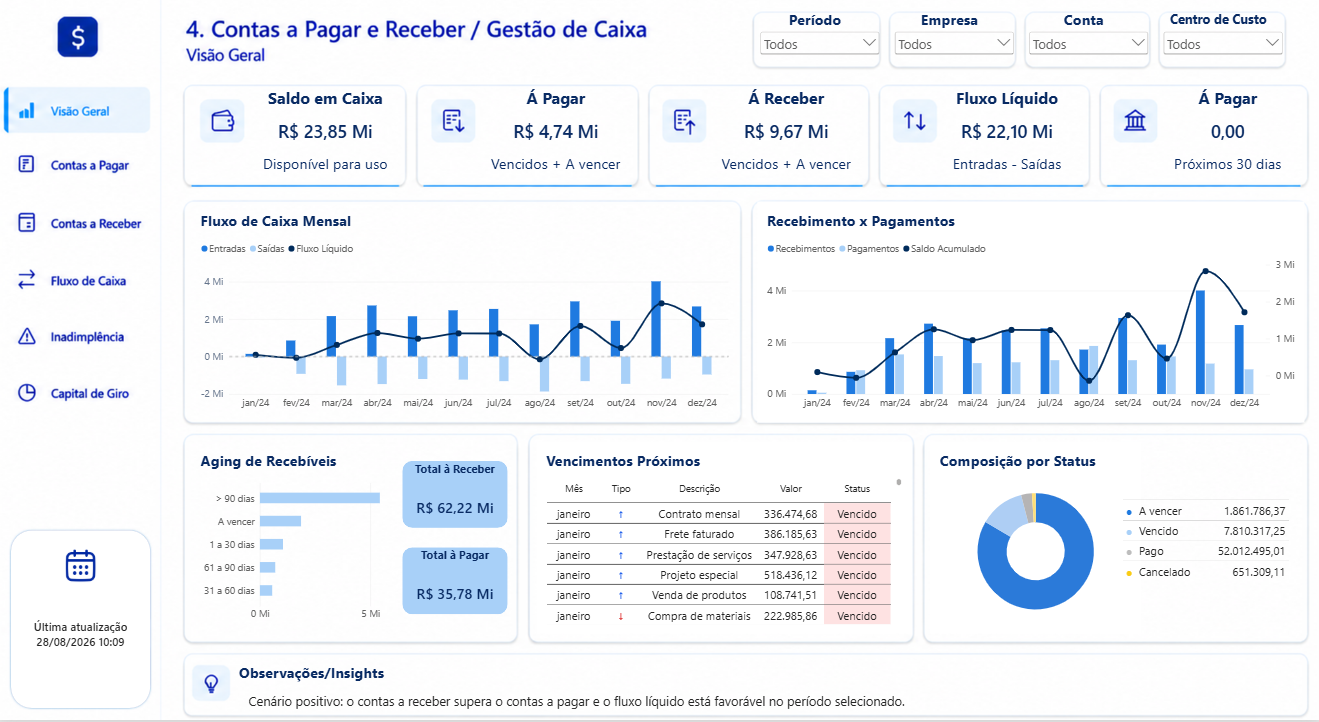

The dashboard page shown, as its layout file describes it:
{"tool":"powerbi","page":{"name":"Visão Geral","canvas":[2200,1200],"ordinal":0},"visuals":[{"type":"shape","box":[16,880,240,304],"z":0},{"type":"cardVisual","title":"Saldo em Caixa","fields":{"Data":["Medidas Visão Geral.Saldo em Caixa"]},"box":[416,144,256,96],"z":1000},{"type":"cardVisual","title":"Á Pagar","fields":{"Data":["Medidas Visão Geral.A Pagar"]},"box":[800,144,256,96],"z":2000},{"type":"cardVisual","title":"Saldo em Caixa","fields":{"Data":["Medidas Visão Geral.Texto Saldo em Caixa"]},"box":[416,240,256,64],"z":3000},{"type":"cardVisual","title":"Saldo em Caixa","fields":{"Data":["Medidas Visão Geral.Texto A Pagar"]},"box":[800,240,256,64],"z":4000},{"type":"cardVisual","title":"Á Receber","fields":{"Data":["Medidas Visão Geral.A Receber"]},"box":[1184,144,256,96],"z":5000},{"type":"cardVisual","title":"Saldo em Caixa","fields":{"Data":["Medidas Visão Geral.Texto A Receber"]},"box":[1184,240,256,64],"z":6000},{"type":"cardVisual","title":"Saldo em Caixa","fields":{"Data":["Medidas Visão Geral.Texto Fluxo Líquido"]},"box":[1552,240,256,64],"z":7000},{"type":"cardVisual","title":"Saldo em Caixa","fields":{"Data":["Medidas Visão Geral.Texto Necessidade de Caixa"]},"box":[1920,240,256,64],"z":8000},{"type":"cardVisual","title":"Fluxo Líquido","fields":{"Data":["Medidas Visão Geral.Fluxo Líquido"]},"box":[1552,144,256,96],"z":9000},{"type":"cardVisual","title":"Á Pagar","fields":{"Data":["Medidas Visão Geral.Necessidade de Caixa 30 Dias"]},"box":[1920,144,256,96],"z":10000},{"type":"slicer","title":"Período","fields":{"Values":["dCalendario.Ano_Mes"]},"box":[1264,48,208,64],"z":11000},{"type":"textbox","box":[1296,16,128,48],"z":12000},{"type":"slicer","fields":{"Values":["dEmpresas.Empresa"]},"box":[1488,48,208,48],"z":13000},{"type":"textbox","box":[1520,16,128,48],"z":14000},{"type":"slicer","fields":{"Values":["dContasBancarias.Conta"]},"box":[1712,48,208,48],"z":15000},{"type":"textbox","box":[1744,16,128,48],"z":16000},{"type":"slicer","fields":{"Values":["dCentrosCusto.Centro_Custo"]},"box":[1936,48,208,48],"z":17000},{"type":"textbox","box":[1936,16,192,48],"z":18000},{"type":"lineClusteredColumnComboChart","title":"Fluxo de Caixa Mensal","fields":{"Y":["Medidas Visão Geral.Entradas de Caixa","Medidas Visão Geral.Saídas de Caixa Gráfico"],"Y2":["Medidas Visão Geral.Fluxo Líquido"],"Category":["dCalendario.Mes_Ano_Eixo"]},"box":[320,336,912,368],"z":19000},{"type":"lineClusteredColumnComboChart","title":"Recebimento x Pagamentos","fields":{"Category":["dCalendario.Mes_Ano_Eixo"],"Y":["Medidas Visão Geral.Recebimentos Mensal","Medidas Visão Geral.Pagamentos Mensal"],"Y2":["Medidas Visão Geral.Saldo Acumulado Rec x Pag"]},"box":[1264,336,912,368],"z":20000},{"type":"clusteredBarChart","title":"Aging de Recebíveis","fields":{"Category":["dFaixaAgingVG.Faixa"],"Y":["Medidas Visão Geral.Valor Aging de Recebíveis"]},"box":[320,736,368,320],"z":21000},{"type":"shape","box":[672,768,176,112],"z":22000},{"type":"shape","box":[672,912,176,112],"z":23000},{"type":"cardVisual","title":"Total à Receber","fields":{"Data":["Medidas Visão Geral.Valor Total dos Títulos a Receber"]},"box":[672,768,176,112],"z":24000},{"type":"cardVisual","title":"Total à Pagar","fields":{"Data":["Medidas Visão Geral.Valor Total dos Títulos a Pagar"]},"box":[672,912,176,112],"z":25000},{"type":"tableEx","title":"Vencimentos Próximos","fields":{"Values":["fVencimentosProximosVG.Data.Variation.Hierarquia de datas.Mês","fVencimentosProximosVG.Tipo","fVencimentosProximosVG.Descrição","Sum(fVencimentosProximosVG.Valor)","fVencimentosProximosVG.Status"]},"box":[896,736,624,320],"z":26000},{"type":"donutChart","title":"Composição por Status","fields":{"Category":["fContasReceber.Status"],"Y":["Medidas Visão Geral.Valor por Status de Recebíveis"]},"box":[1552,736,352,320],"z":27000},{"type":"tableEx","fields":{"Values":["Medidas Visão Geral.Bolinha Status Composição VG","dStatusComposicaoVG.Status","Medidas Visão Geral.Valor Status Composição VG"]},"box":[1856,784,320,224],"z":28000},{"type":"cardVisual","title":"Observações/Insights","fields":{"Data":["Medidas Visão Geral.Insight Visão Geral"]},"box":[400,1104,1776,80],"z":29000},{"type":"cardVisual","fields":{"Data":["Medidas Visão Geral.Texto Última Atualização"]},"box":[32,992,208,128],"z":30000},{"type":"image","box":[96,912,80,64],"z":31000},{"type":"actionButton","box":[16,240,240,64],"z":32000},{"type":"actionButton","box":[16,336,240,64],"z":33000},{"type":"actionButton","box":[16,432,240,64],"z":34000},{"type":"actionButton","box":[16,528,240,64],"z":35000},{"type":"actionButton","box":[16,624,240,64],"z":36000}]}

Visuals, with their boxes on the page's 2200x1200 design canvas (x1, y1, x2, y2). These are canvas units, not pixel positions in the 1319x722 screenshot, which may show the page scaled, cropped or inside an application window:
shape: <region>16, 880, 256, 1184</region>
"Saldo em Caixa" cardVisual: <region>416, 144, 672, 240</region>
"Á Pagar" cardVisual: <region>800, 144, 1056, 240</region>
"Saldo em Caixa" cardVisual: <region>416, 240, 672, 304</region>
"Saldo em Caixa" cardVisual: <region>800, 240, 1056, 304</region>
"Á Receber" cardVisual: <region>1184, 144, 1440, 240</region>
"Saldo em Caixa" cardVisual: <region>1184, 240, 1440, 304</region>
"Saldo em Caixa" cardVisual: <region>1552, 240, 1808, 304</region>
"Saldo em Caixa" cardVisual: <region>1920, 240, 2176, 304</region>
"Fluxo Líquido" cardVisual: <region>1552, 144, 1808, 240</region>
"Á Pagar" cardVisual: <region>1920, 144, 2176, 240</region>
"Período" slicer: <region>1264, 48, 1472, 112</region>
textbox: <region>1296, 16, 1424, 64</region>
slicer - dEmpresas.Empresa: <region>1488, 48, 1696, 96</region>
textbox: <region>1520, 16, 1648, 64</region>
slicer - dContasBancarias.Conta: <region>1712, 48, 1920, 96</region>
textbox: <region>1744, 16, 1872, 64</region>
slicer - dCentrosCusto.Centro_Custo: <region>1936, 48, 2144, 96</region>
textbox: <region>1936, 16, 2128, 64</region>
"Fluxo de Caixa Mensal" lineClusteredColumnComboChart: <region>320, 336, 1232, 704</region>
"Recebimento x Pagamentos" lineClusteredColumnComboChart: <region>1264, 336, 2176, 704</region>
"Aging de Recebíveis" clusteredBarChart: <region>320, 736, 688, 1056</region>
shape: <region>672, 768, 848, 880</region>
shape: <region>672, 912, 848, 1024</region>
"Total à Receber" cardVisual: <region>672, 768, 848, 880</region>
"Total à Pagar" cardVisual: <region>672, 912, 848, 1024</region>
"Vencimentos Próximos" tableEx: <region>896, 736, 1520, 1056</region>
"Composição por Status" donutChart: <region>1552, 736, 1904, 1056</region>
tableEx - Medidas Visão Geral.Bolinha Status Composição VG x dStatusComposicaoVG.Status: <region>1856, 784, 2176, 1008</region>
"Observações/Insights" cardVisual: <region>400, 1104, 2176, 1184</region>
cardVisual - Medidas Visão Geral.Texto Última Atualização: <region>32, 992, 240, 1120</region>
image: <region>96, 912, 176, 976</region>
actionButton: <region>16, 240, 256, 304</region>
actionButton: <region>16, 336, 256, 400</region>
actionButton: <region>16, 432, 256, 496</region>
actionButton: <region>16, 528, 256, 592</region>
actionButton: <region>16, 624, 256, 688</region>
